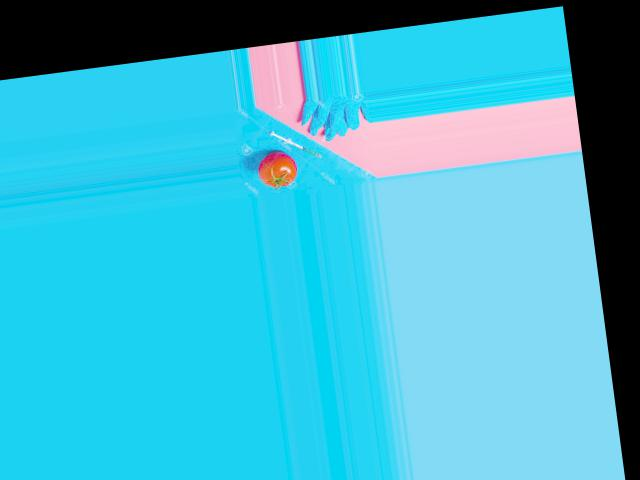tomato: (256, 148, 299, 188)
